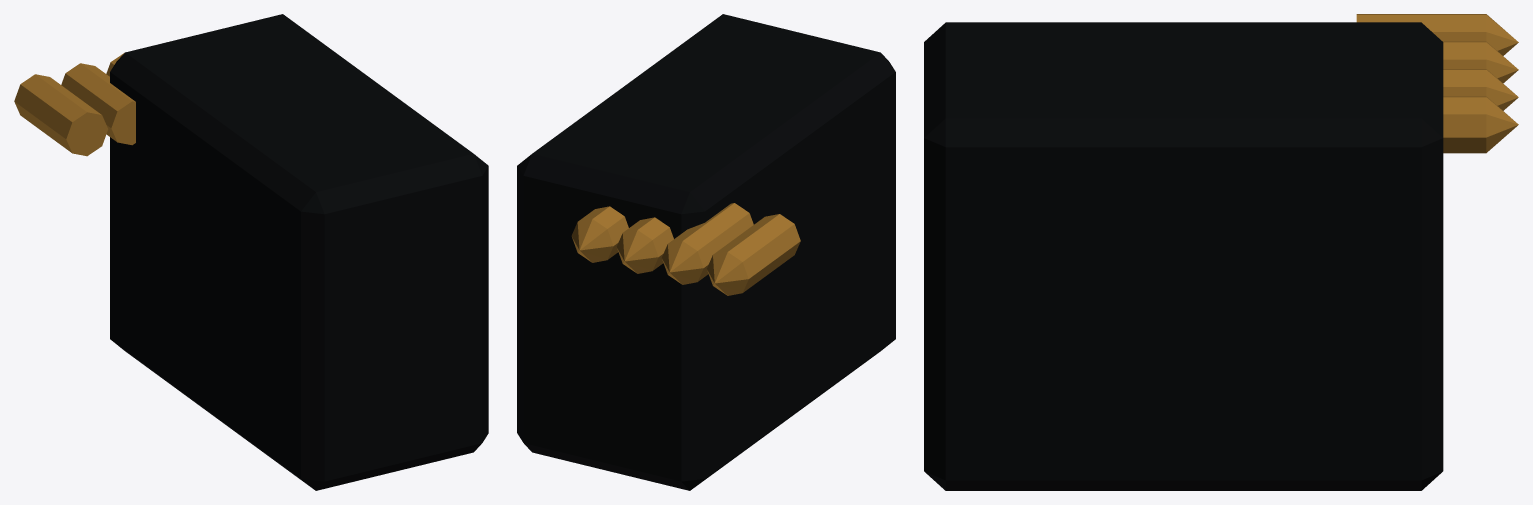
The model's file is Grenade40__FeedBox.obj.
3 renders of one model, left to right at view 1: azimuth 30°, elevation 25°; view 2: azimuth 150°, elevation 25°; view 3: azimuth 270°, elevation 25°, orthographic. The views are drawn at different scales.
Visible parts, largest first — view 1: Ammunition_box, Grenade_belt, Grenade_belt.001; view 2: Ammunition_box, Grenade_belt, Grenade_belt.001, Grenade_belt.003, Grenade_belt.002; view 3: Ammunition_box, Grenade_belt.003, Grenade_belt, Grenade_belt.001, Grenade_belt.002.
Boxes of the visible parts, left/top/right/bottom form: Ammunition_box: left=110, top=14, right=488, bottom=490; Grenade_belt: left=14, top=74, right=108, bottom=156; Grenade_belt.001: left=61, top=63, right=135, bottom=145; Ammunition_box: left=517, top=14, right=895, bottom=490; Grenade_belt: left=707, top=214, right=800, bottom=295; Grenade_belt.001: left=662, top=203, right=753, bottom=284; Grenade_belt.003: left=571, top=206, right=628, bottom=262; Grenade_belt.002: left=616, top=217, right=673, bottom=273; Ammunition_box: left=924, top=22, right=1443, bottom=490; Grenade_belt.003: left=1443, top=96, right=1518, bottom=153; Grenade_belt: left=1356, top=14, right=1518, bottom=55; Grenade_belt.001: left=1443, top=41, right=1518, bottom=83; Grenade_belt.002: left=1443, top=69, right=1518, bottom=110.
Size of the model in its own units: 0.343 by 0.38 by 0.55.
